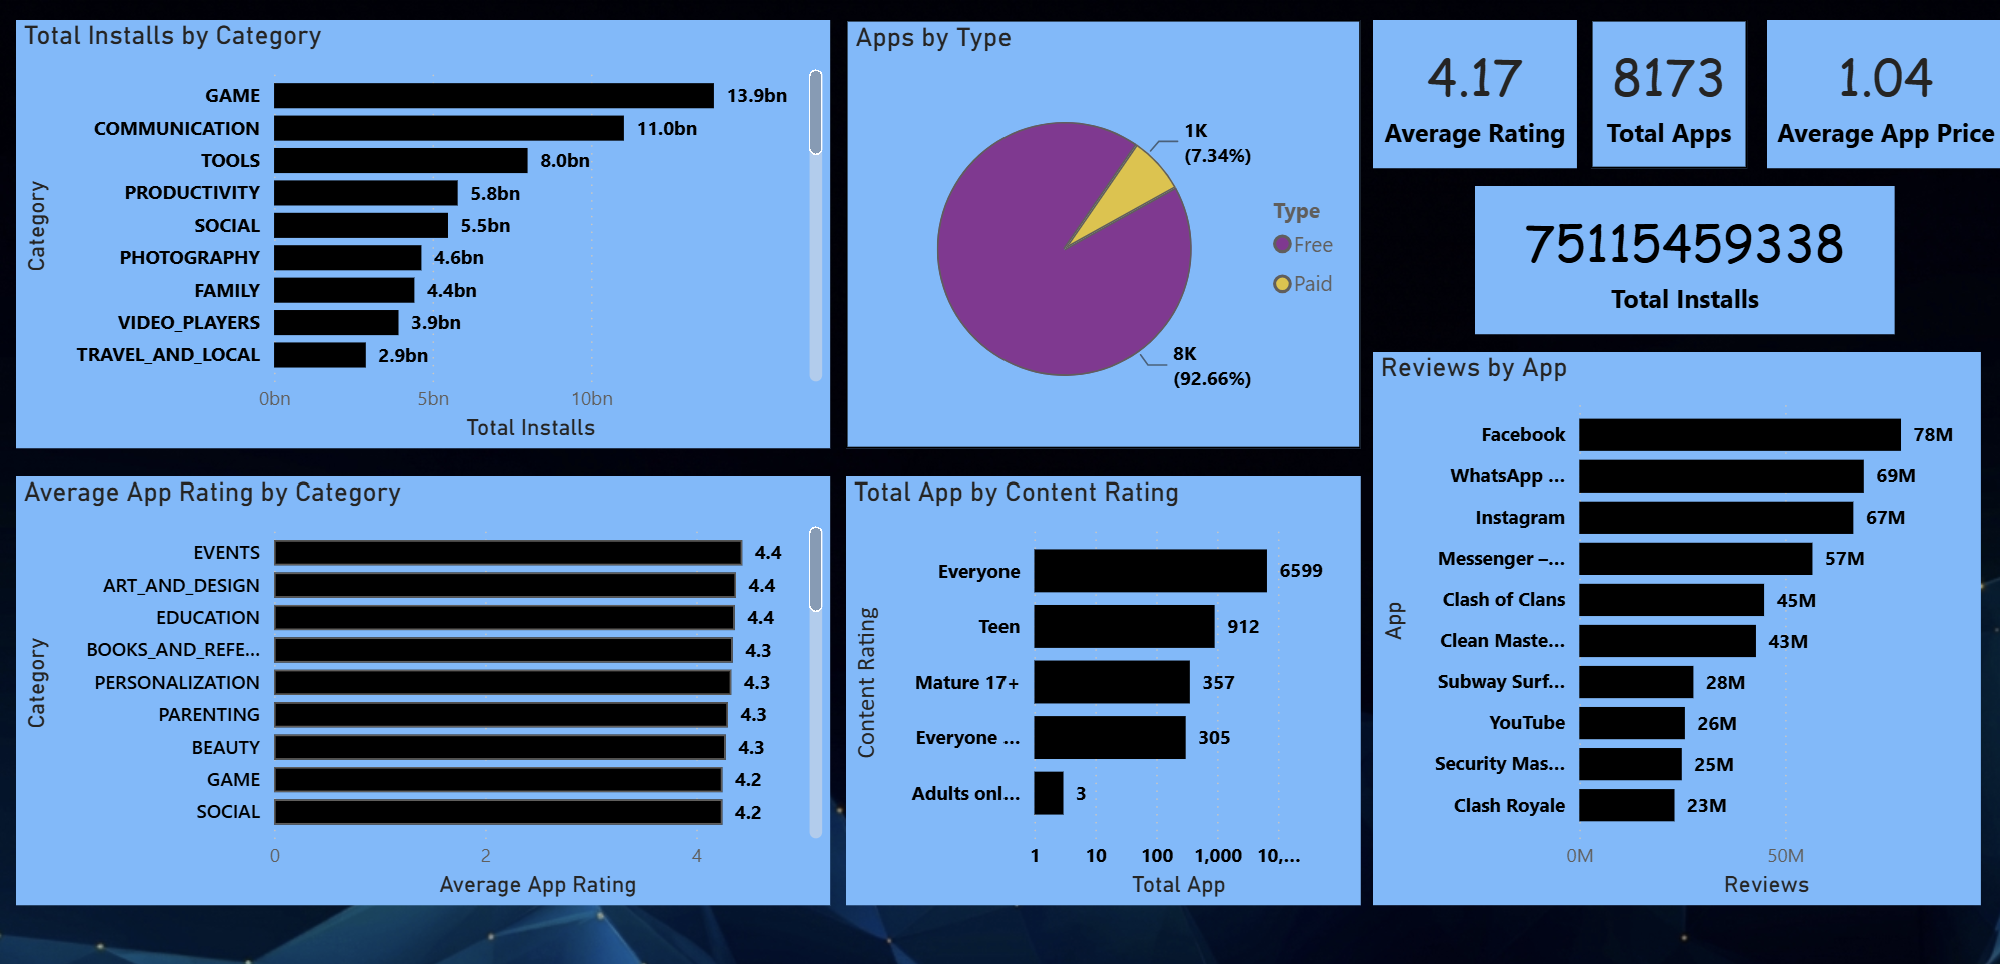

Layout of this report page (visuals, bound fields, positions):
{"tool":"powerbi","page":{"name":"Page 1","canvas":[1280,720],"ordinal":0},"visuals":[{"type":"card","fields":{"Values":["Count(googleplaystore_cleaned.App)"]},"box":[1016.1,104.5,99.4,94.3],"z":0},{"type":"card","fields":{"Values":["Avg(googleplaystore_cleaned.Rating)"]},"box":[877.1,104.5,130,94.3],"z":1},{"type":"card","fields":{"Values":["Sum(googleplaystore_cleaned.Installs)"]},"box":[942.2,210.4,267.7,94.3],"z":2},{"type":"card","fields":{"Values":["Avg(googleplaystore_cleaned.Price)"]},"box":[1128.3,104.5,151.7,94.3],"z":3},{"type":"clusteredBarChart","fields":{"Category":["googleplaystore_cleaned.Category"],"Y":["Sum(googleplaystore_cleaned.Installs)"]},"box":[12.7,104.5,518.9,272.8],"z":4},{"type":"pieChart","fields":{"Category":["googleplaystore_cleaned.Type"],"Y":["Count(googleplaystore_cleaned.App)"]},"box":[541.8,104.5,327.6,272.8],"z":5},{"type":"barChart","fields":{"Category":["googleplaystore_cleaned.Category"],"Y":["Avg(googleplaystore_cleaned.Rating)"]},"box":[12.7,395.2,518.9,272.8],"z":6},{"type":"clusteredBarChart","fields":{"Category":["googleplaystore_cleaned.Content Rating"],"Y":["Count(googleplaystore_cleaned.App)"]},"box":[541.8,395.2,327.6,272.8],"z":7},{"type":"clusteredBarChart","fields":{"Category":["googleplaystore_cleaned.App"],"Y":["Sum(googleplaystore_cleaned.Reviews)"]},"box":[877.1,316.2,387.6,351.9],"z":8}]}

Visuals, with their boxes on the page's 1280x720 design canvas (x1, y1, x2, y2). These are canvas units, not pixel positions in the 2000x964 screenshot, which may show the page scaled, cropped or inside an application window:
card - Count(googleplaystore_cleaned.App): bbox=(1016, 104, 1116, 199)
card - Avg(googleplaystore_cleaned.Rating): bbox=(877, 104, 1007, 199)
card - Sum(googleplaystore_cleaned.Installs): bbox=(942, 210, 1210, 305)
card - Avg(googleplaystore_cleaned.Price): bbox=(1128, 104, 1280, 199)
clusteredBarChart - googleplaystore_cleaned.Category x Sum(googleplaystore_cleaned.Installs): bbox=(13, 104, 532, 377)
pieChart - googleplaystore_cleaned.Type x Count(googleplaystore_cleaned.App): bbox=(542, 104, 869, 377)
barChart - googleplaystore_cleaned.Category x Avg(googleplaystore_cleaned.Rating): bbox=(13, 395, 532, 668)
clusteredBarChart - googleplaystore_cleaned.Content Rating x Count(googleplaystore_cleaned.App): bbox=(542, 395, 869, 668)
clusteredBarChart - googleplaystore_cleaned.App x Sum(googleplaystore_cleaned.Reviews): bbox=(877, 316, 1265, 668)
